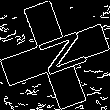N_W: (25, 27, 85, 83)
